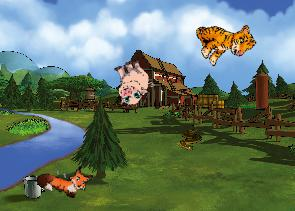fox: (34, 153, 95, 204)
pig: (106, 55, 157, 108)
tiger: (190, 7, 258, 72)
